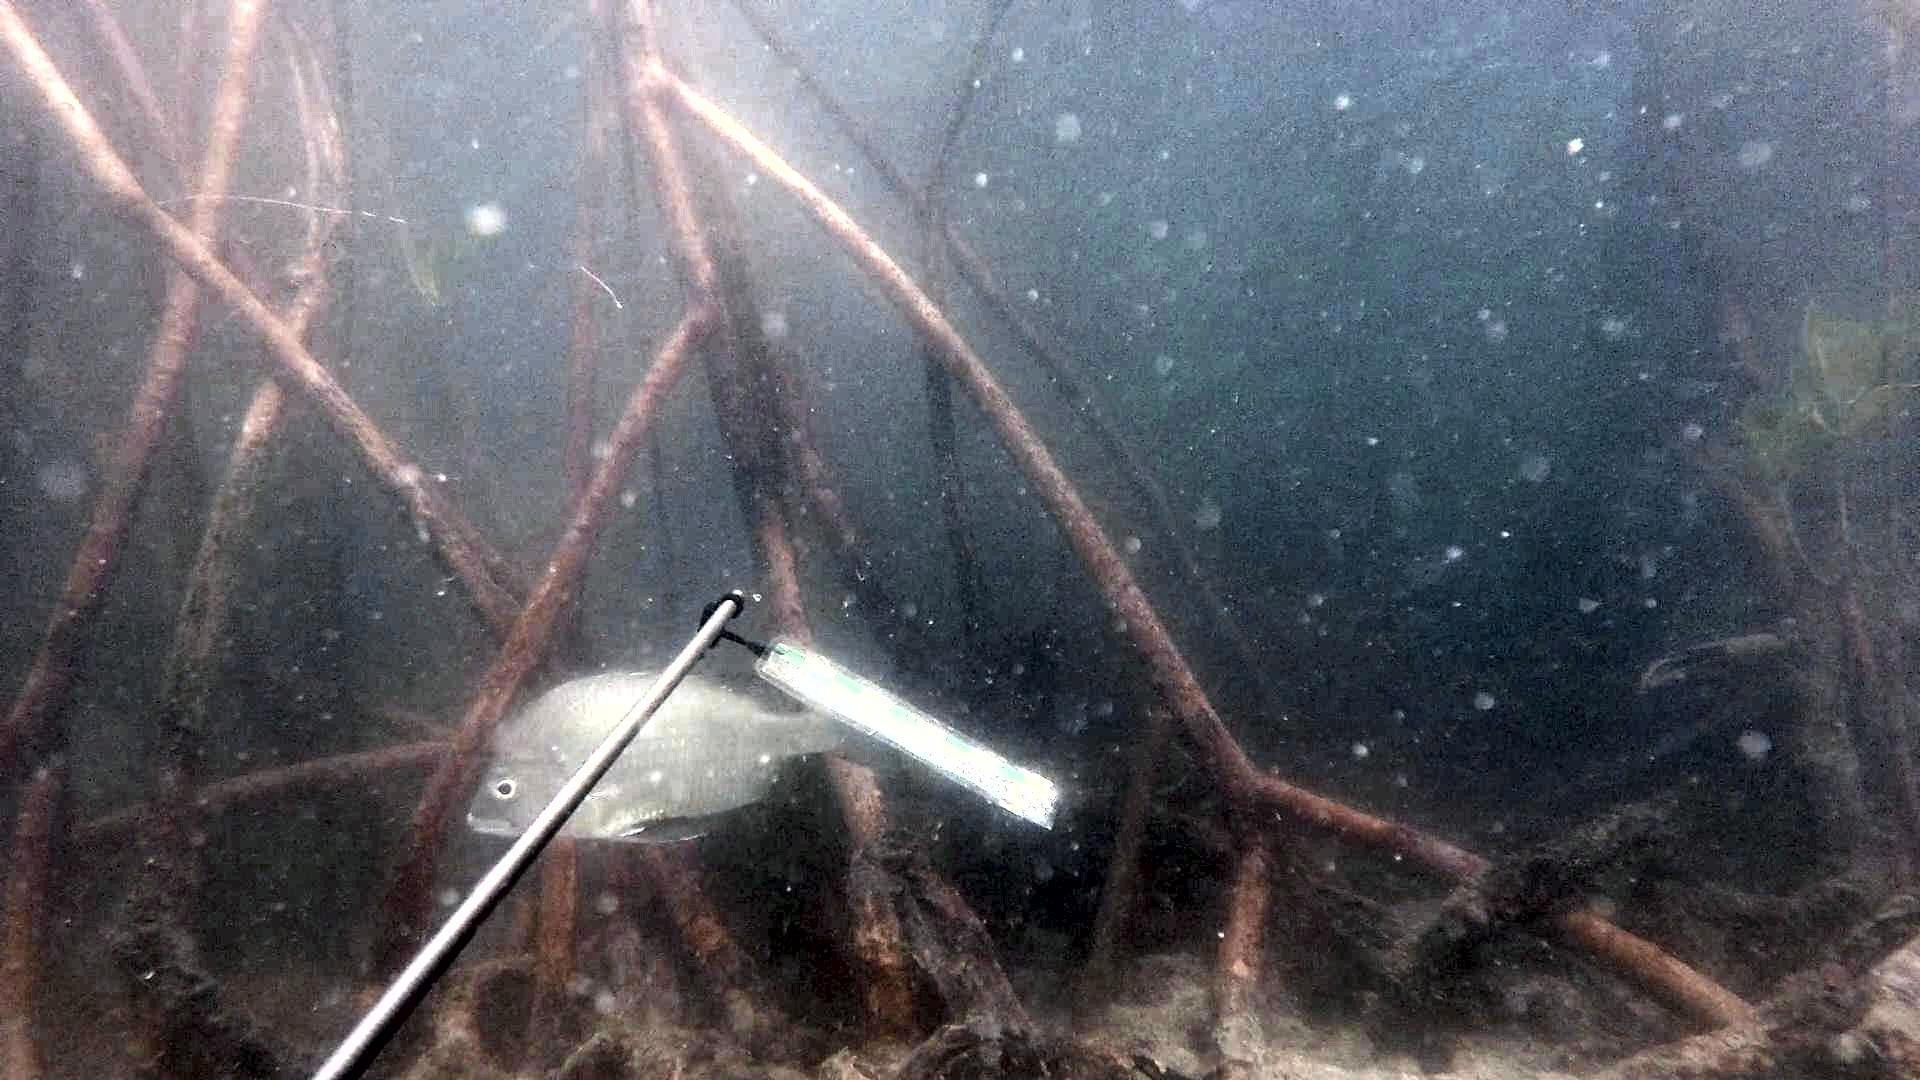acanthopagrus palmaris: (456, 662, 939, 861)
